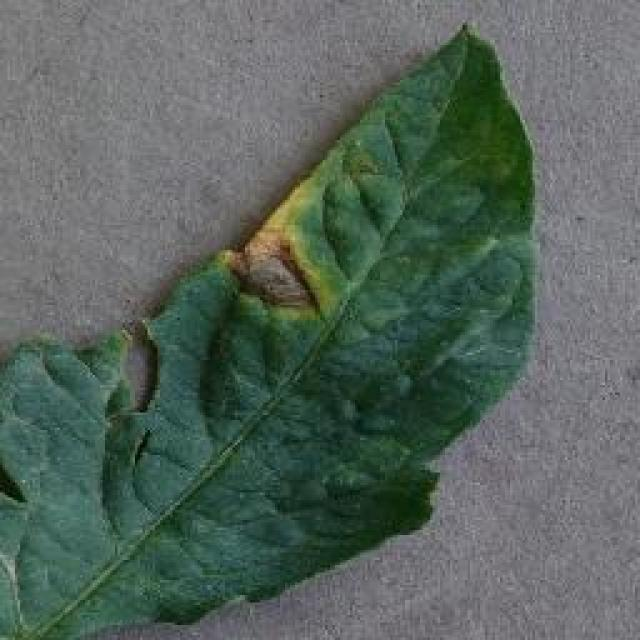Tomato___Early_blight: (0, 17, 538, 638)
